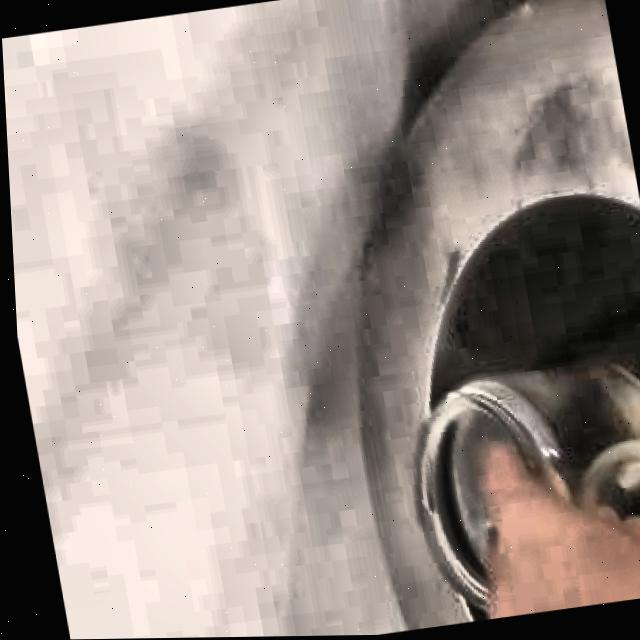glass: (412, 359, 640, 610)
